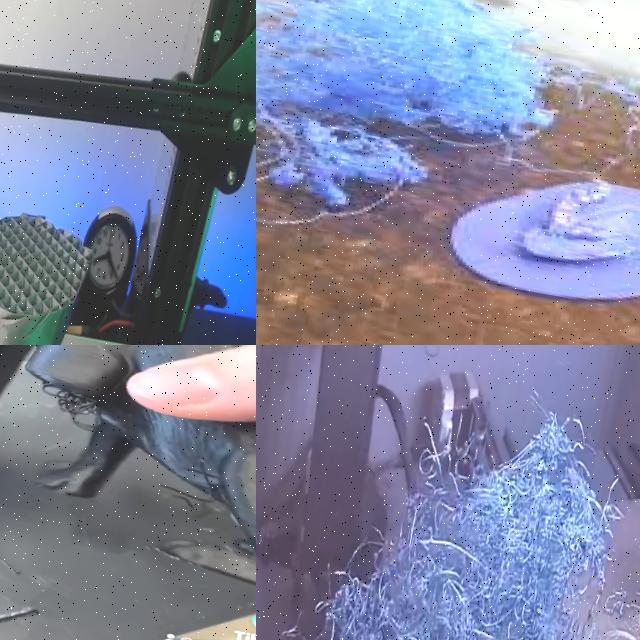spaghetti: (256, 345, 638, 640), (256, 0, 616, 249)
